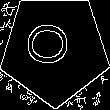O_E: (30, 28, 80, 72)
